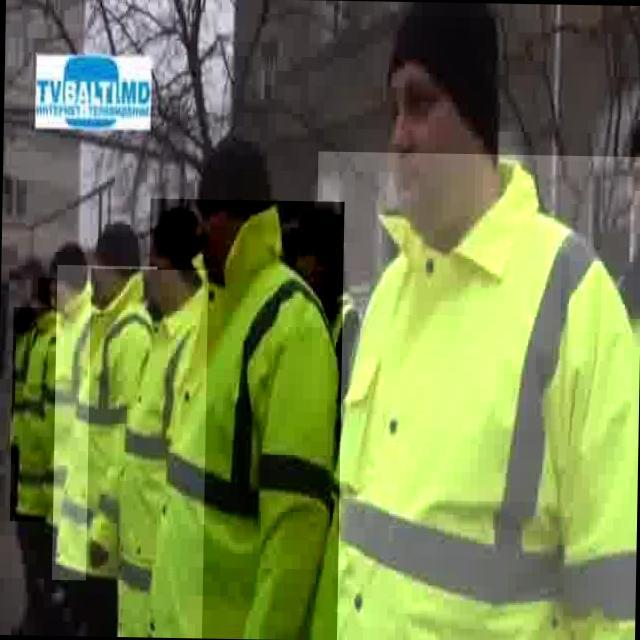Safety Vest: (309, 150, 640, 640), (143, 198, 344, 640), (85, 268, 208, 638), (52, 264, 157, 581), (34, 278, 91, 521), (10, 307, 66, 522)
